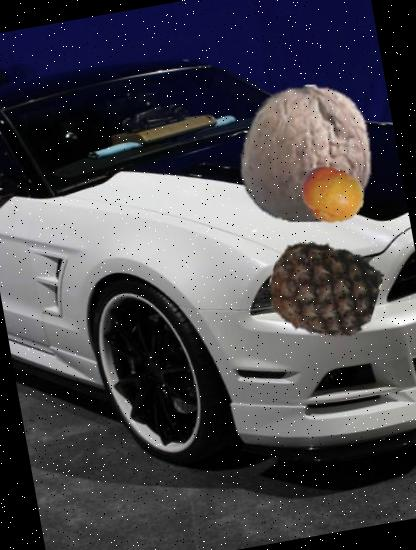Mandarine: (295, 158, 369, 232)
Pineapple: (260, 227, 386, 352)
Walnut: (226, 73, 385, 232)
